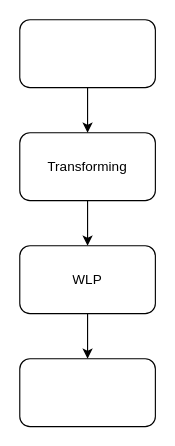
Some shapes in this 175 by 446 pixel diagram are drawn without their labels. Here are the shapes that lost their labels. From the top down, the centre of each, then its label:
At [87,53]: "Collection".
At [87,392]: "Z3 Prover".
